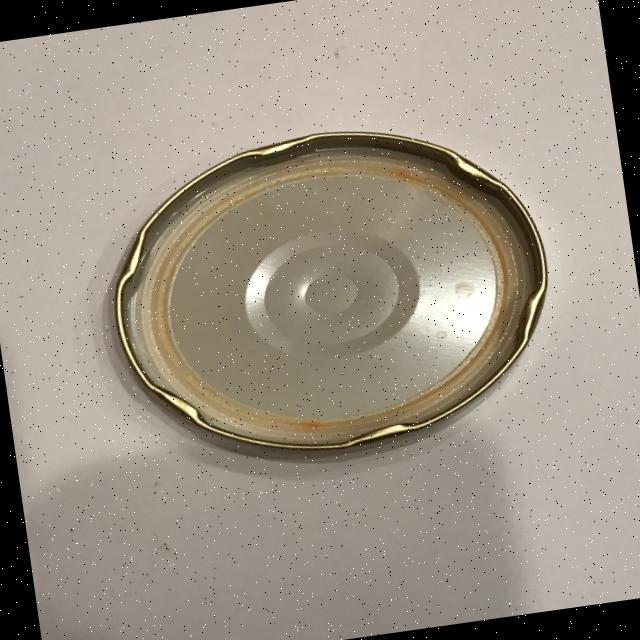metal: (93, 103, 569, 479)
